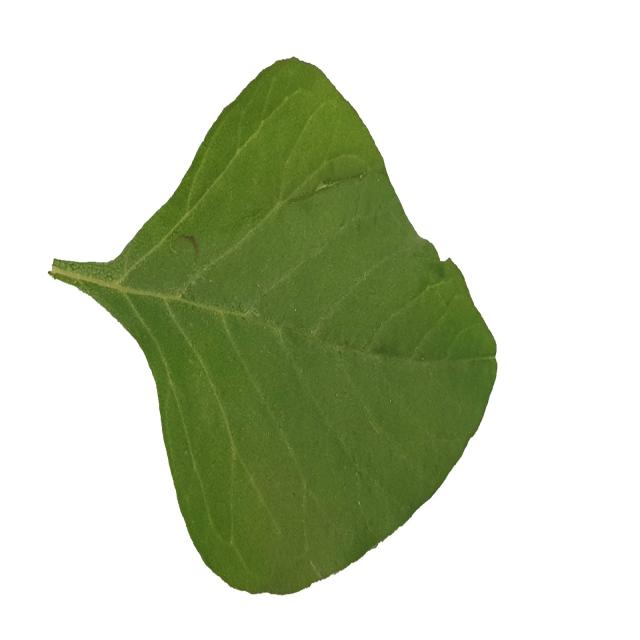Medicinal-Arive Dantu: (50, 55, 498, 593)
